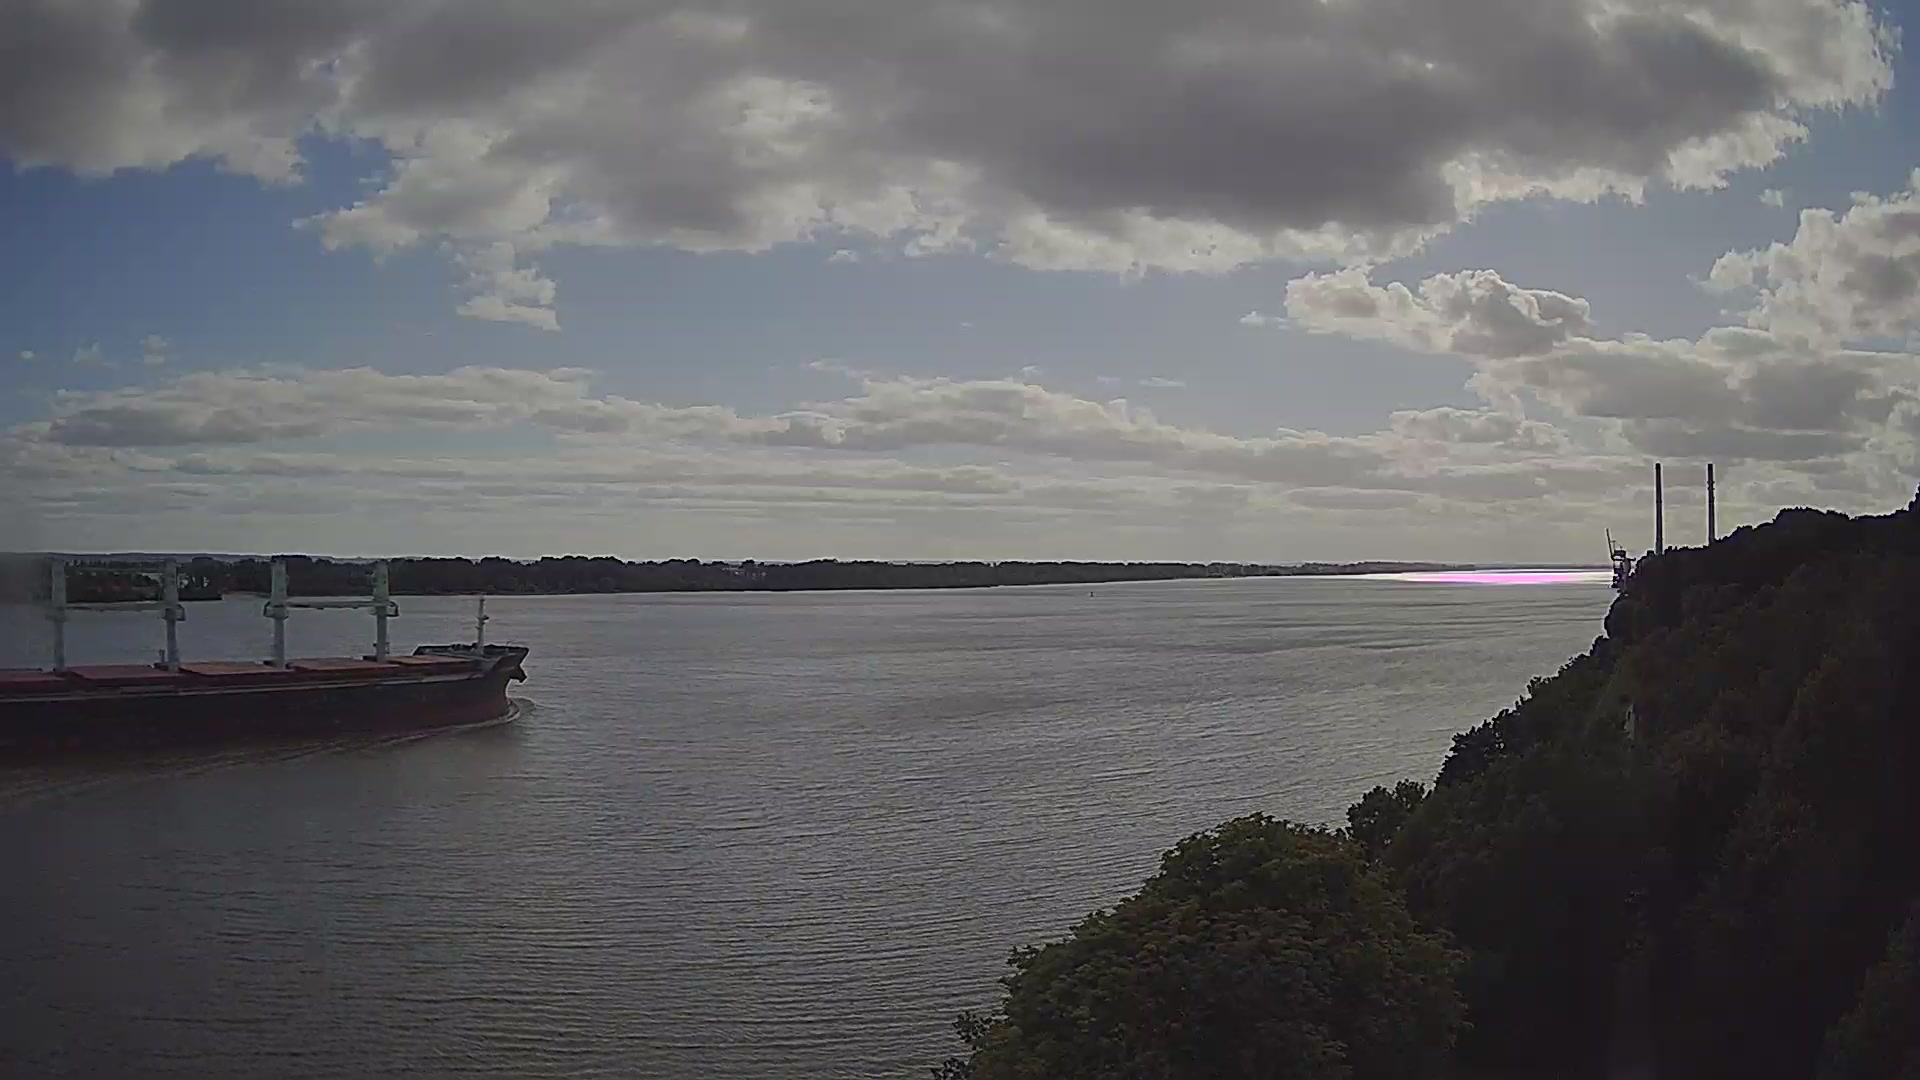sea: (1, 553, 527, 752)
